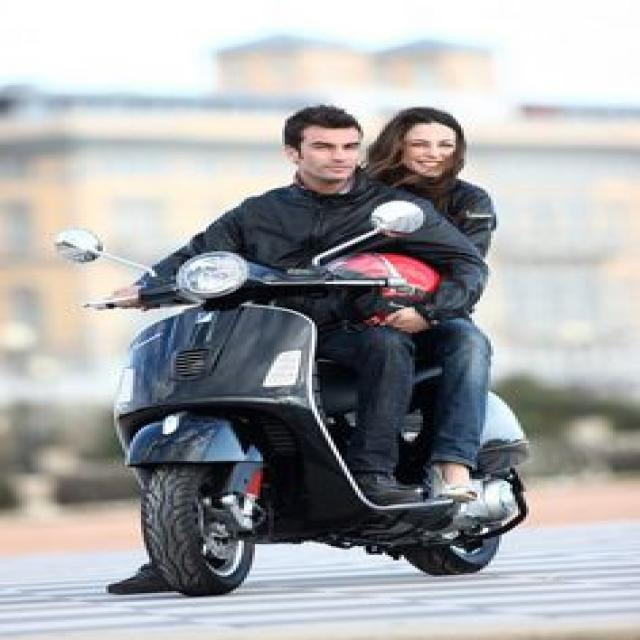Not Wearing Helmet: (195, 99, 393, 199)
